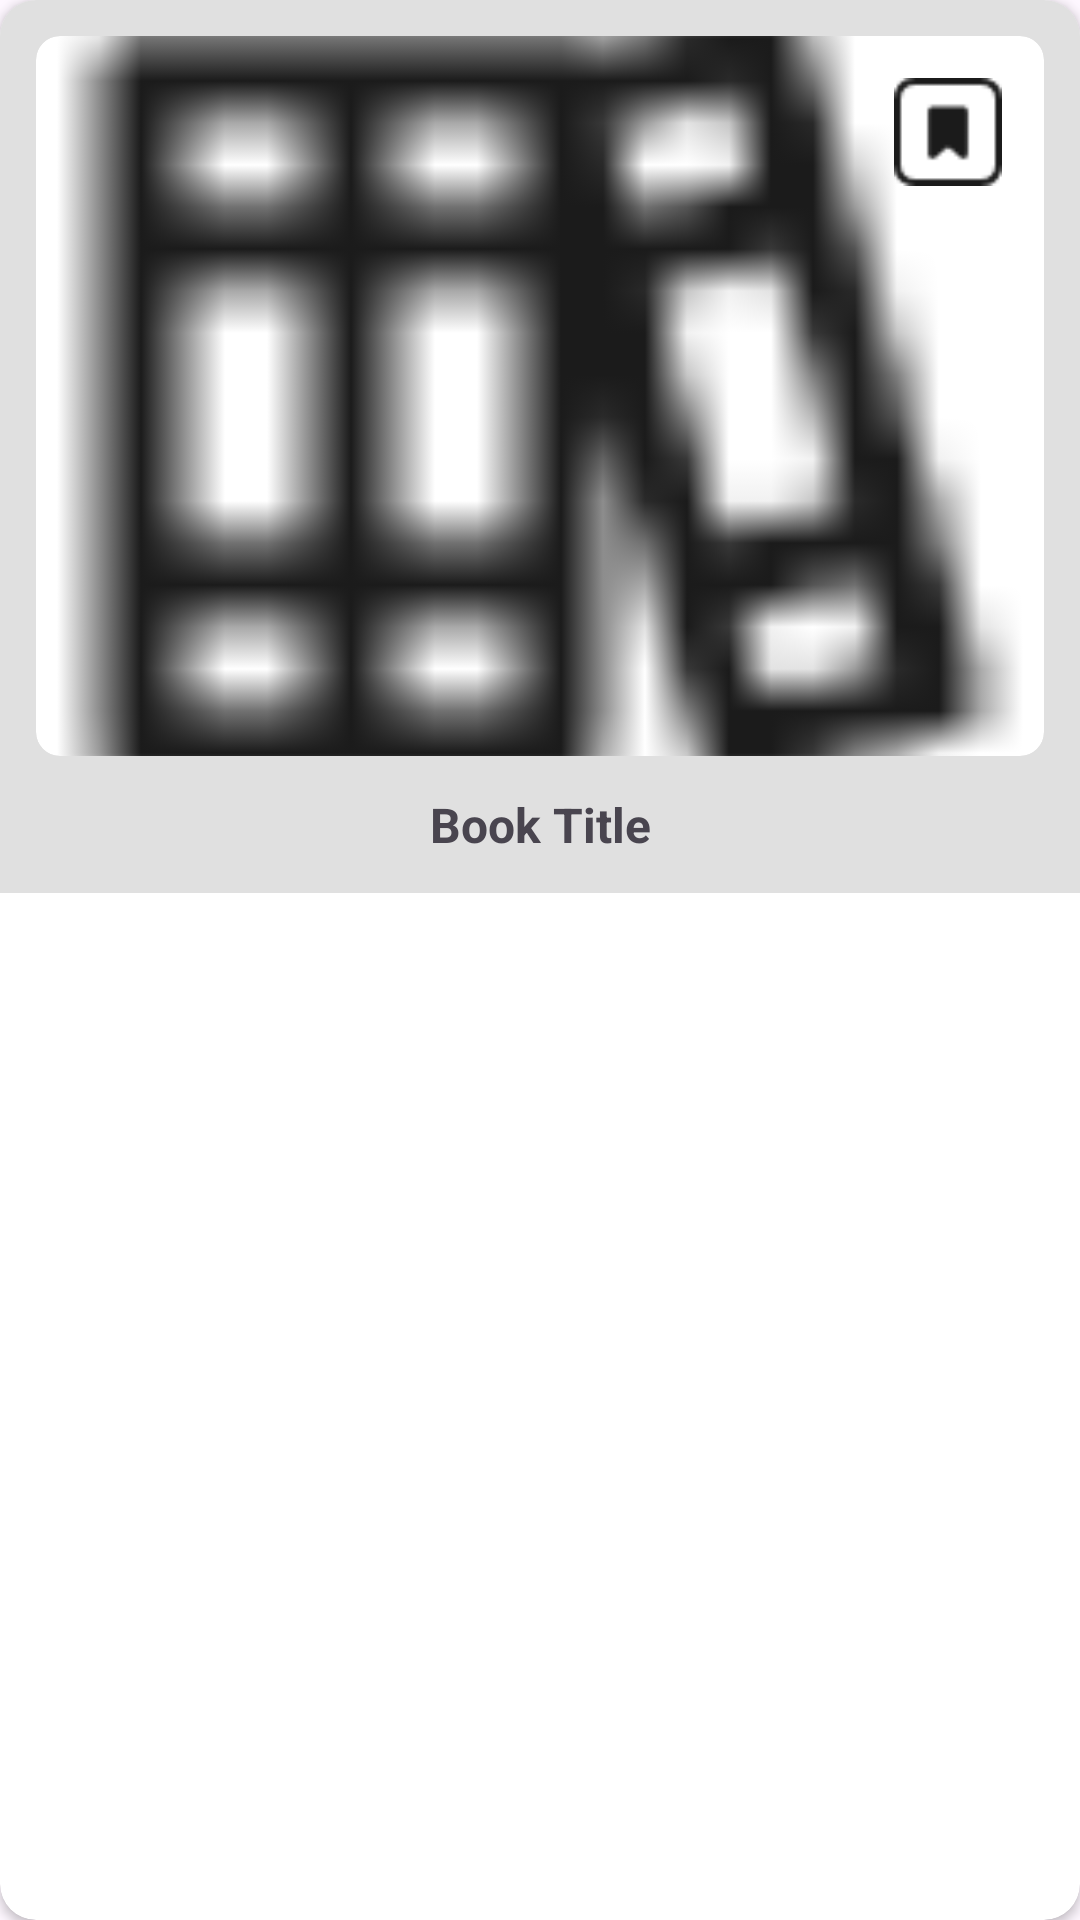

Screen size 1080px x 1920px. Icon name, then its center in pixels as [x,y]:
Bookmark: [948,132]
